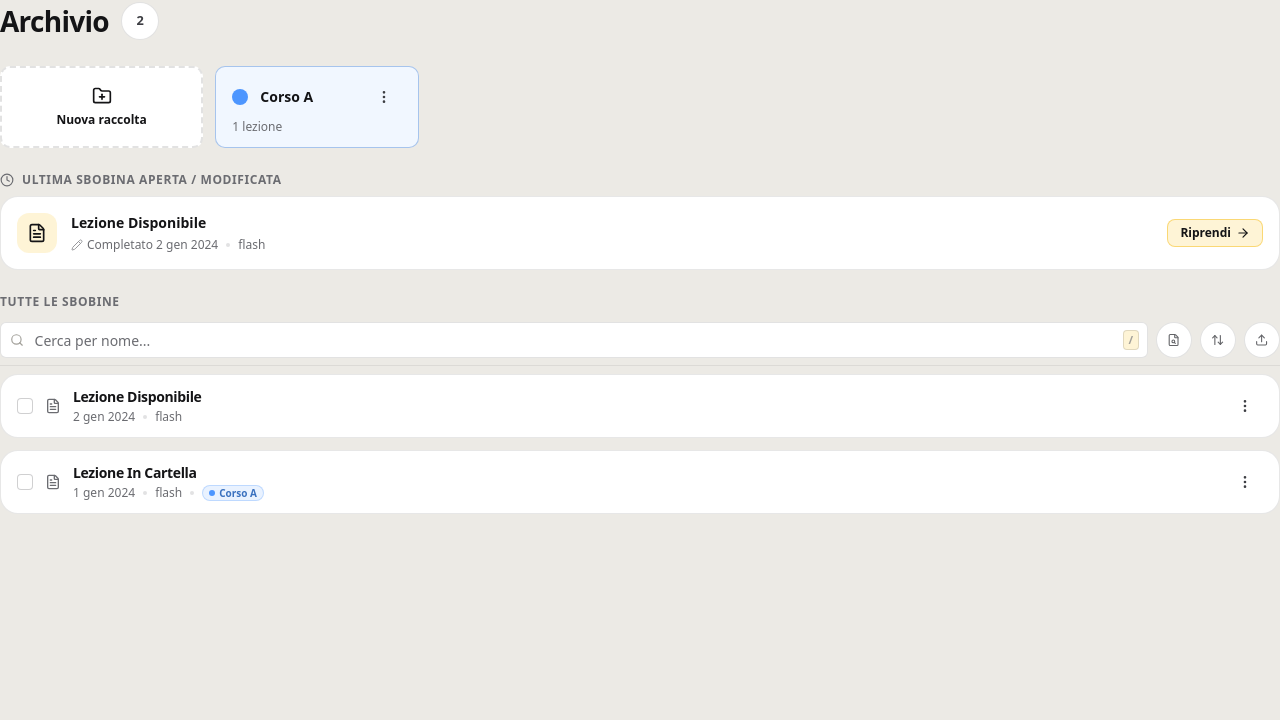
ArchivePage › opens the add lessons modal from folder header and renders available sessions
This screenshot has width=1280, height=720.
Click the 1st text "Corso A". click: (287, 96)
box: [260,87,313,106]
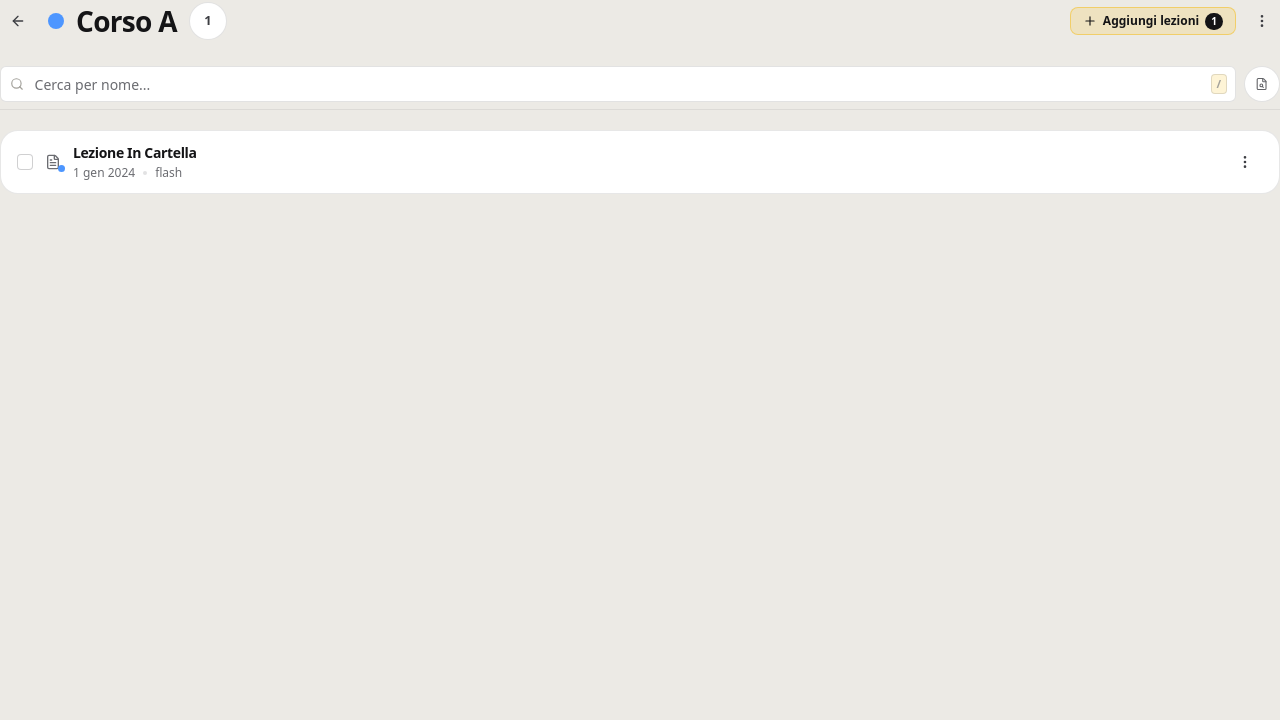
Check: the button "Aggiungi lezioni 1" is shown
Click the button "Aggiungi lezioni 1". click: (1153, 21)
box: [1070,7,1236,35]
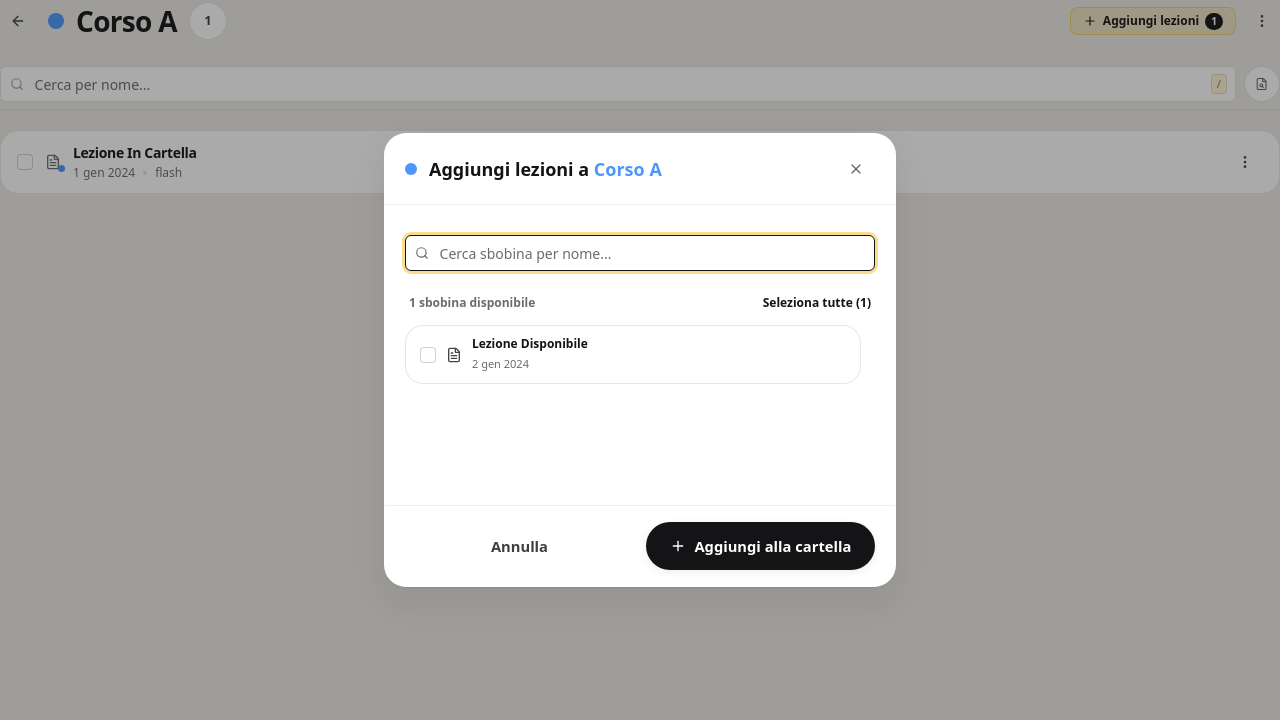
Check: the text "Corso A" is shown, box [594,157,662,181]
Check: the text "Lezione Disponibile" is shown, box [472,335,588,352]
